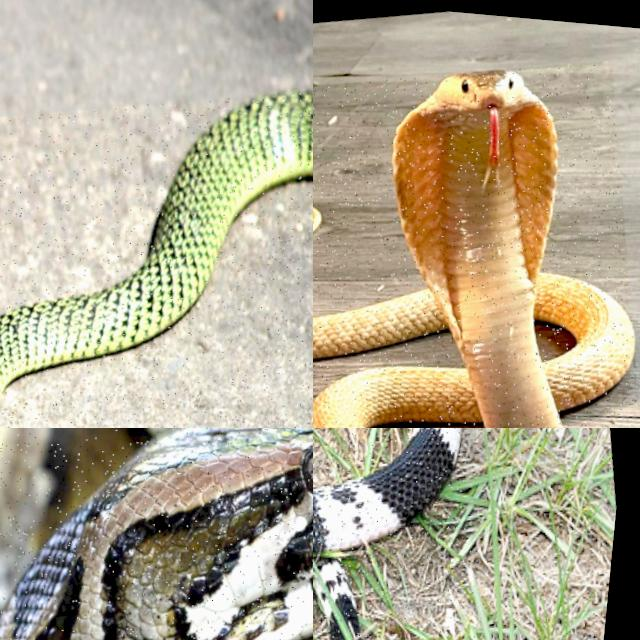Chrysopelea ornata: (0, 92, 312, 394)
Naja kaouthia: (313, 71, 633, 427)
Naja siamensis: (313, 428, 460, 554)
Python bivittatus: (0, 428, 312, 639)
snake: (313, 71, 633, 427), (0, 92, 312, 394), (0, 428, 312, 639), (313, 428, 460, 554)
